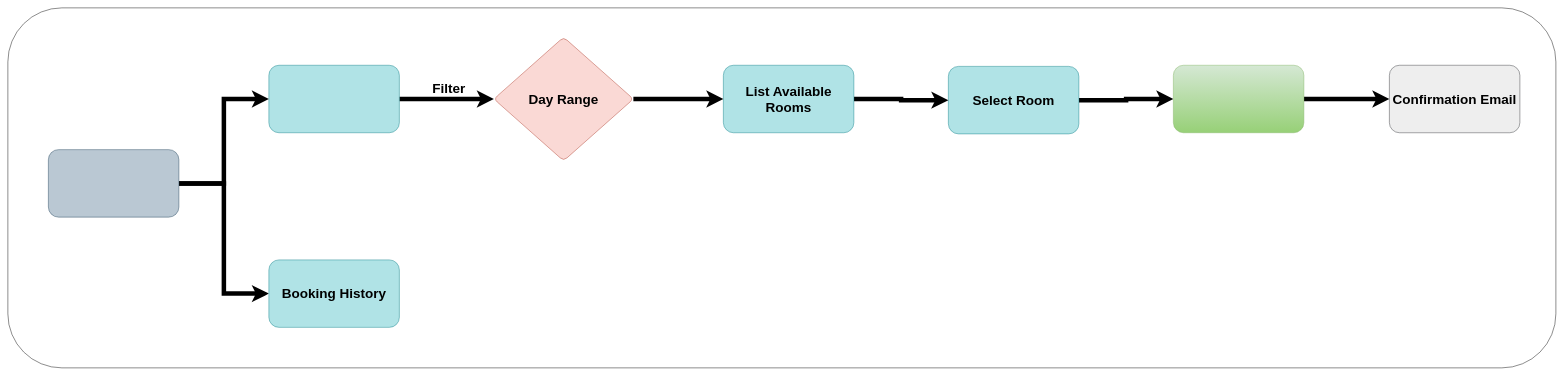
This 1564x376 diagram has some shape labels left out. The shapes that lost their labels are listed below. From the top down, each one's centre as x and y in pixels, then its label:
(333,99): Search Barcelona Properties
(1238,99): Make Payment
(113,183): Airbnb Home Screen
